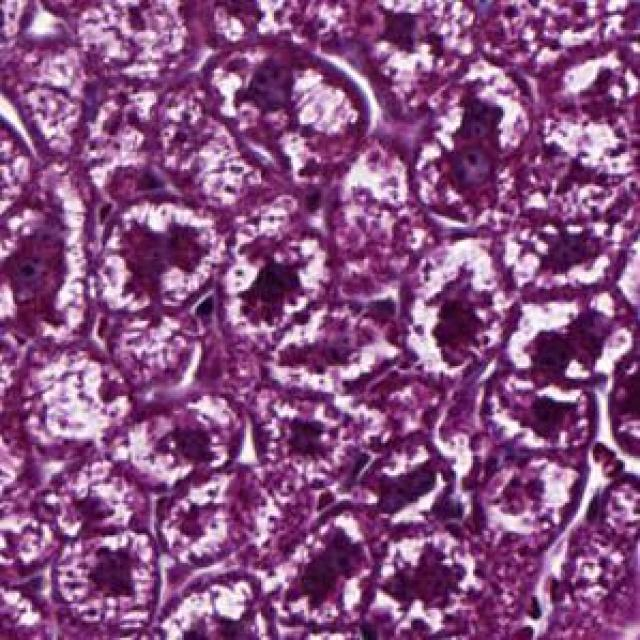inflammation: (88, 201, 220, 315), (220, 231, 330, 343)
